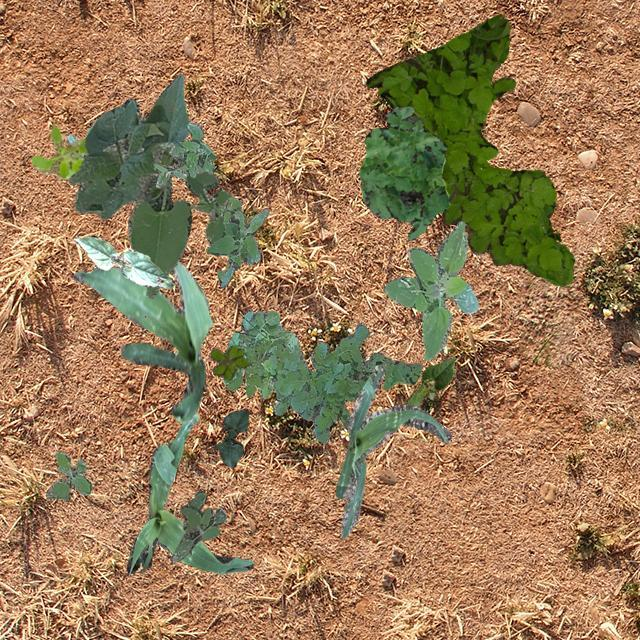crop: (68, 74, 230, 298), (72, 260, 212, 422), (125, 412, 252, 574), (334, 362, 450, 538), (73, 235, 174, 288), (402, 354, 454, 406), (215, 408, 248, 466)
weed: (366, 14, 574, 286), (222, 308, 422, 442), (382, 220, 478, 360), (358, 106, 448, 240), (205, 196, 268, 286), (168, 489, 226, 562), (153, 122, 215, 186), (29, 126, 86, 178), (44, 450, 90, 500), (208, 344, 248, 380), (66, 122, 94, 158)
